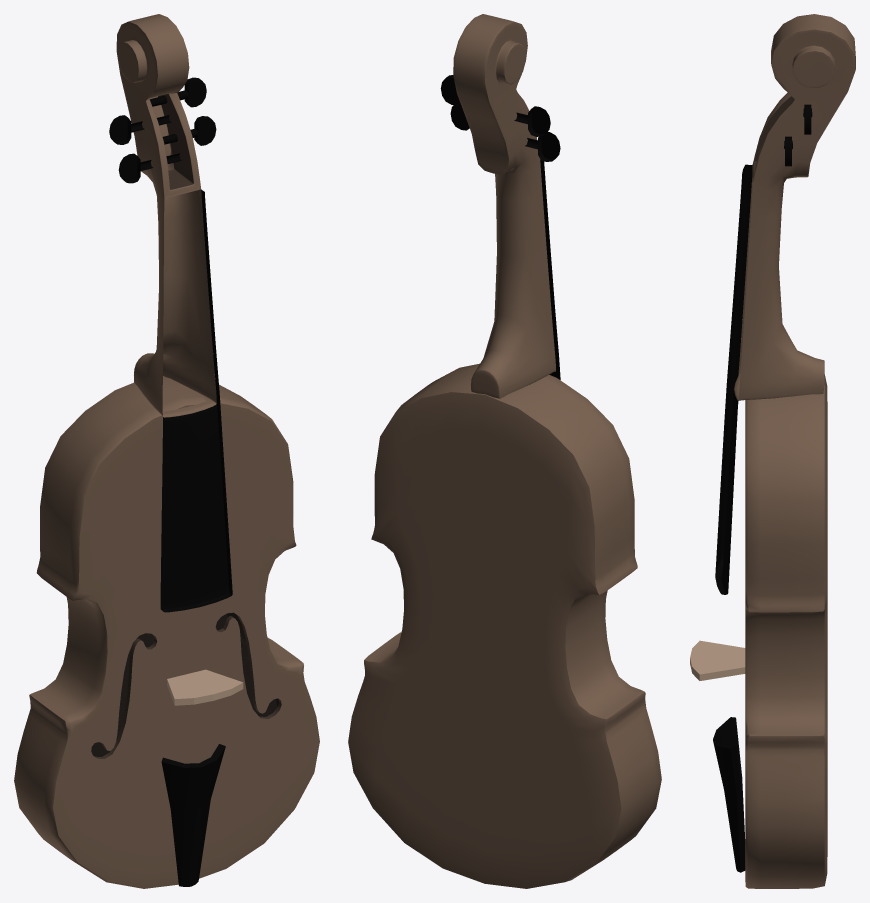
File: violin.glb
The picture shows the model from 3 angles, left to right: view 1: azimuth 30°, elevation 25°; view 2: azimuth 150°, elevation 25°; view 3: azimuth 270°, elevation 25°; orthographic projection. The views are drawn at different scales.
Visible parts, largest first — view 1: Body, Neck, Tailpiece, Peg, Bridge; view 2: Body, Neck, Peg; view 3: Body, Neck, Tailpiece, Bridge, Peg.
Part boxes in pixels (x1=…): Body: x1=14, y1=377, x2=319, y2=888; Neck: x1=116, y1=14, x2=232, y2=612; Tailpiece: x1=161, y1=744, x2=225, y2=886; Peg: x1=109, y1=77, x2=216, y2=183; Bridge: x1=167, y1=669, x2=243, y2=705; Body: x1=348, y1=363, x2=661, y2=888; Neck: x1=453, y1=14, x2=560, y2=398; Peg: x1=440, y1=75, x2=560, y2=161; Body: x1=745, y1=374, x2=827, y2=888; Neck: x1=715, y1=14, x2=855, y2=594; Tailpiece: x1=713, y1=717, x2=745, y2=872; Bridge: x1=690, y1=640, x2=745, y2=680; Peg: x1=784, y1=104, x2=812, y2=166.
Size of the model in its own units: 0.2161 by 0.6408 by 0.1133.
